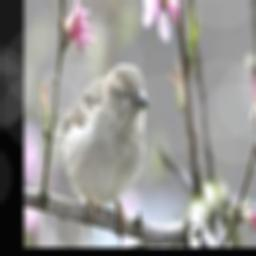Sparrow: (53, 63, 150, 243)
